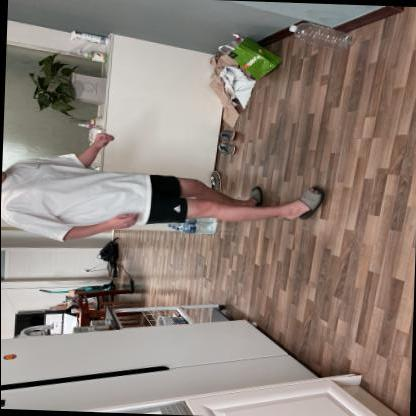no_safety-shoe: (277, 175, 335, 232)
